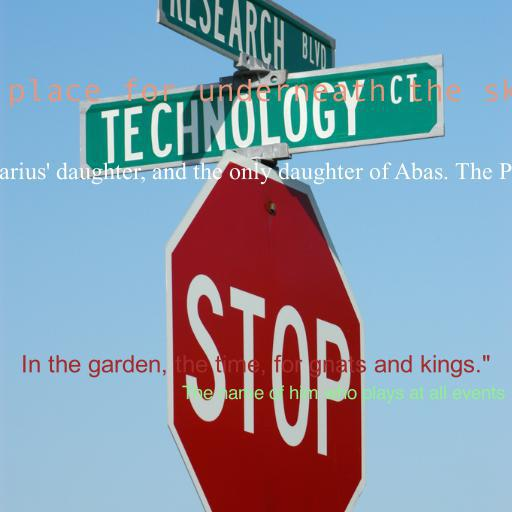Andale Mono: (0, 78, 512, 108)
Arial: (21, 354, 491, 378)
Impact: (181, 385, 505, 404)
Times New Roman: (0, 162, 512, 185)
